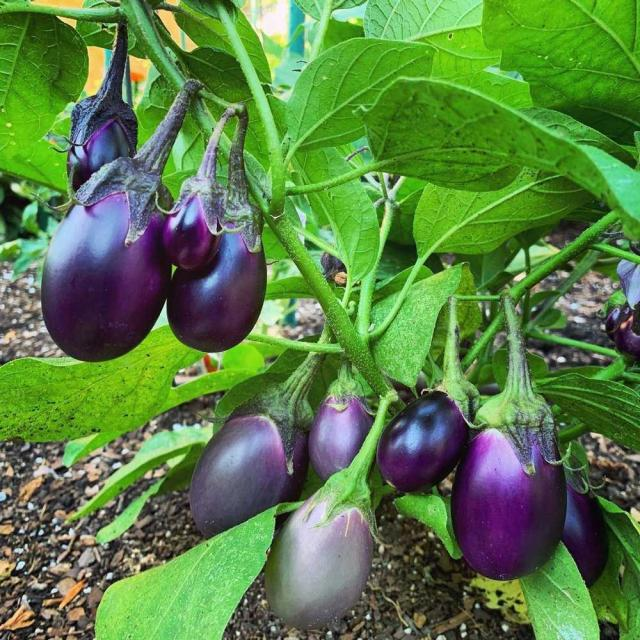Eggplant-r1Ob: (41, 80, 201, 361), (451, 429, 566, 580)
